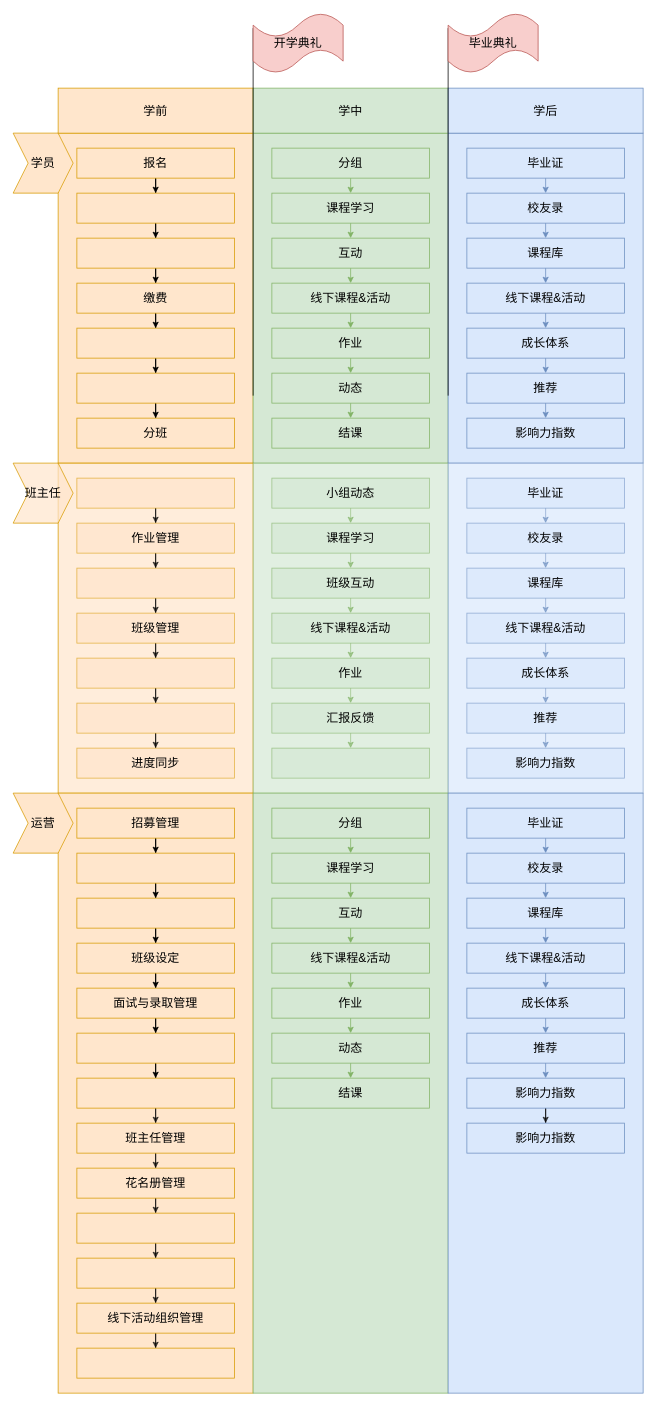
The diagram is 656 pixels wide and 1406 high, and some of its shapes have lost their labels. The box of each missing label's shape, as (x1, y1, x2, y2) in pixels:
城市设定: (76, 897, 234, 928)
学习小组管理: (76, 657, 234, 688)
学员管理: (76, 702, 234, 733)
师资排期: (76, 1077, 234, 1108)
投诉与客服管理: (76, 1257, 234, 1288)
报名审核: (76, 192, 234, 223)
报名成功: (76, 372, 234, 403)
报名数据统计: (76, 1347, 234, 1378)
招募审核: (76, 852, 234, 883)
消息通知: (76, 567, 234, 598)
结课考评: (271, 747, 429, 778)
缴费与教材管理: (76, 1212, 234, 1243)
落定城市: (76, 327, 234, 358)
课程管理: (76, 477, 234, 508)
课纲管理: (76, 1032, 234, 1063)
面试: (76, 237, 234, 268)
